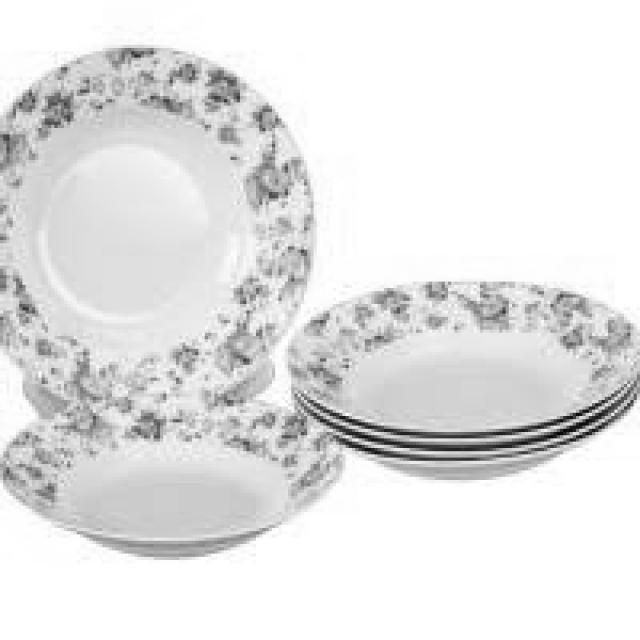dish: (287, 252, 640, 492)
